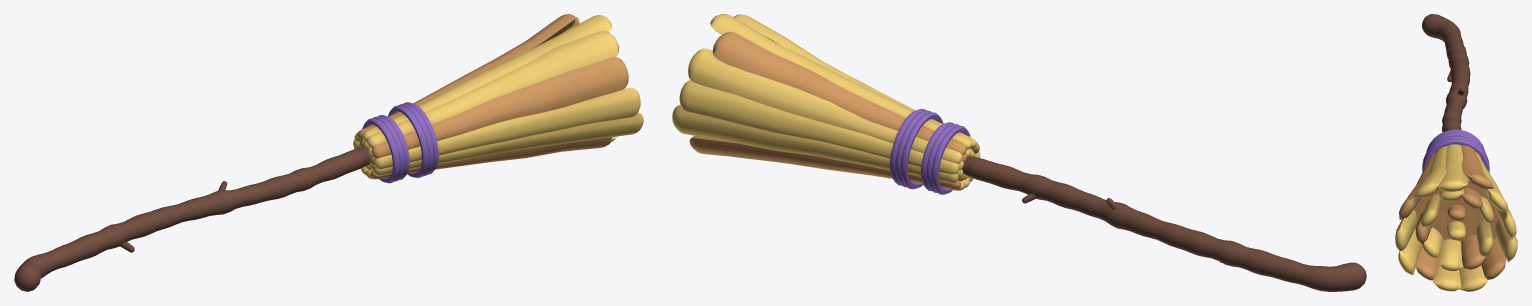
File: escoba.glb
The picture shows the model from 3 angles, left to right: view 1: azimuth 30°, elevation 25°; view 2: azimuth 150°, elevation 25°; view 3: azimuth 270°, elevation 25°; orthographic projection. The views are drawn at different scales.
Visible parts, largest first — view 1: witch-broom_body; view 2: witch-broom_body; view 3: witch-broom_body.
Part boxes in pixels (x1,y1,x2,y2): witch-broom_body: (14,14,643,291); witch-broom_body: (672,14,1366,291); witch-broom_body: (1395,14,1517,291).
Size of the model in its own units: 1.35 by 0.2581 by 0.2633.
Materials: 1 (1 with a texture image).
